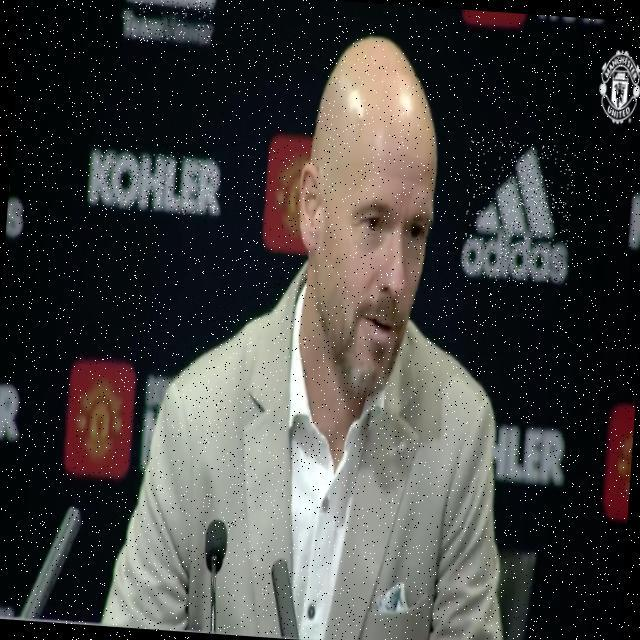Adidas: (460, 138, 576, 285)
Kohler: (86, 149, 224, 217)
TeamViewer: (121, 0, 216, 45)
